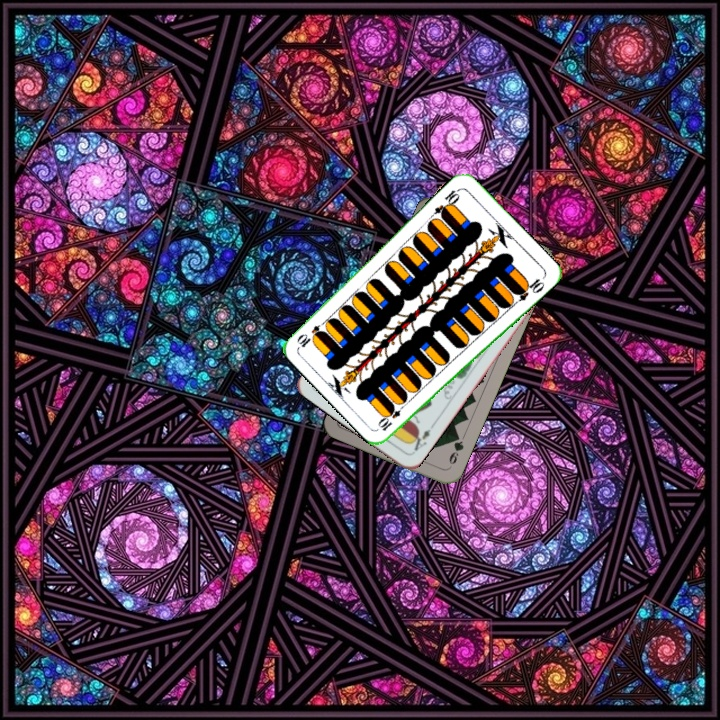E10: (375, 399, 409, 434), (430, 184, 463, 220)
EA: (406, 420, 436, 456)
G9: (445, 430, 466, 467)
